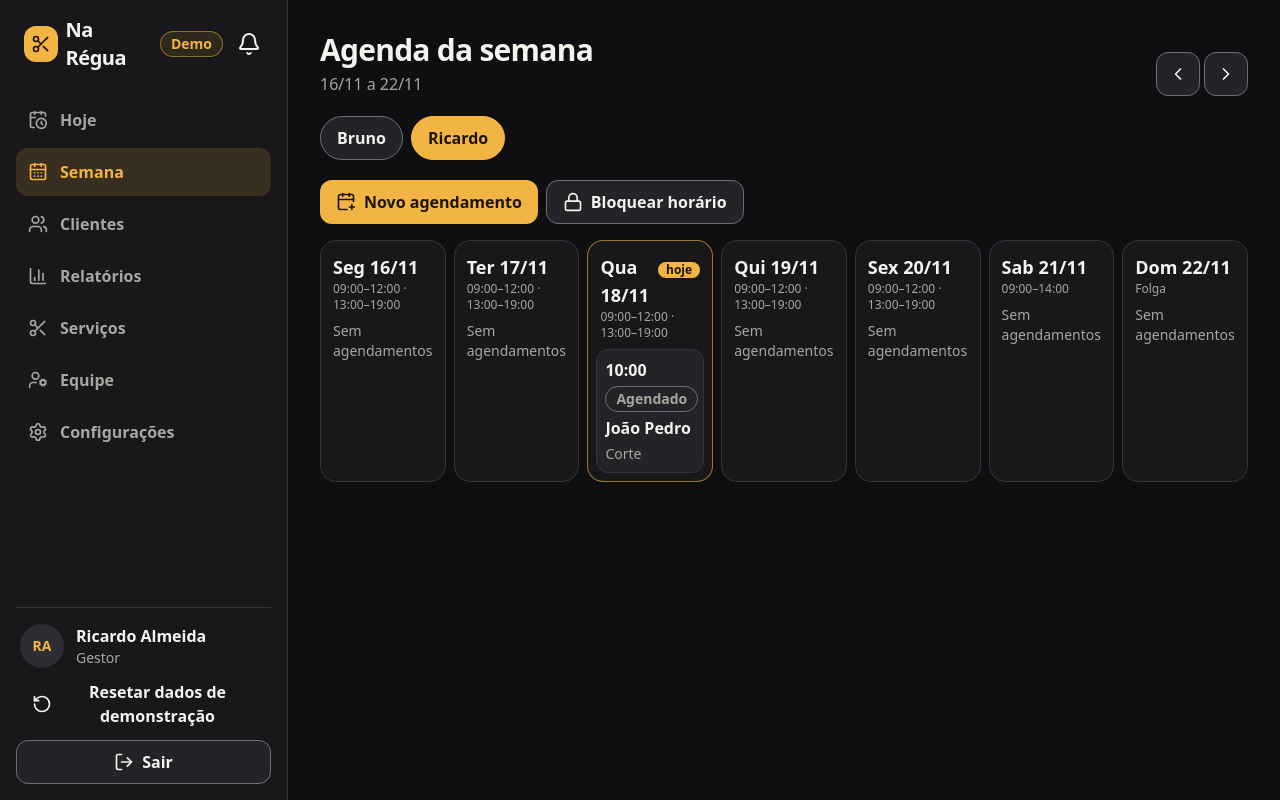
Test: WeekPage › switches between professionals
Click the button "Bruno" at {"x": 362, "y": 138}, box left=320, top=116, right=403, bottom=160
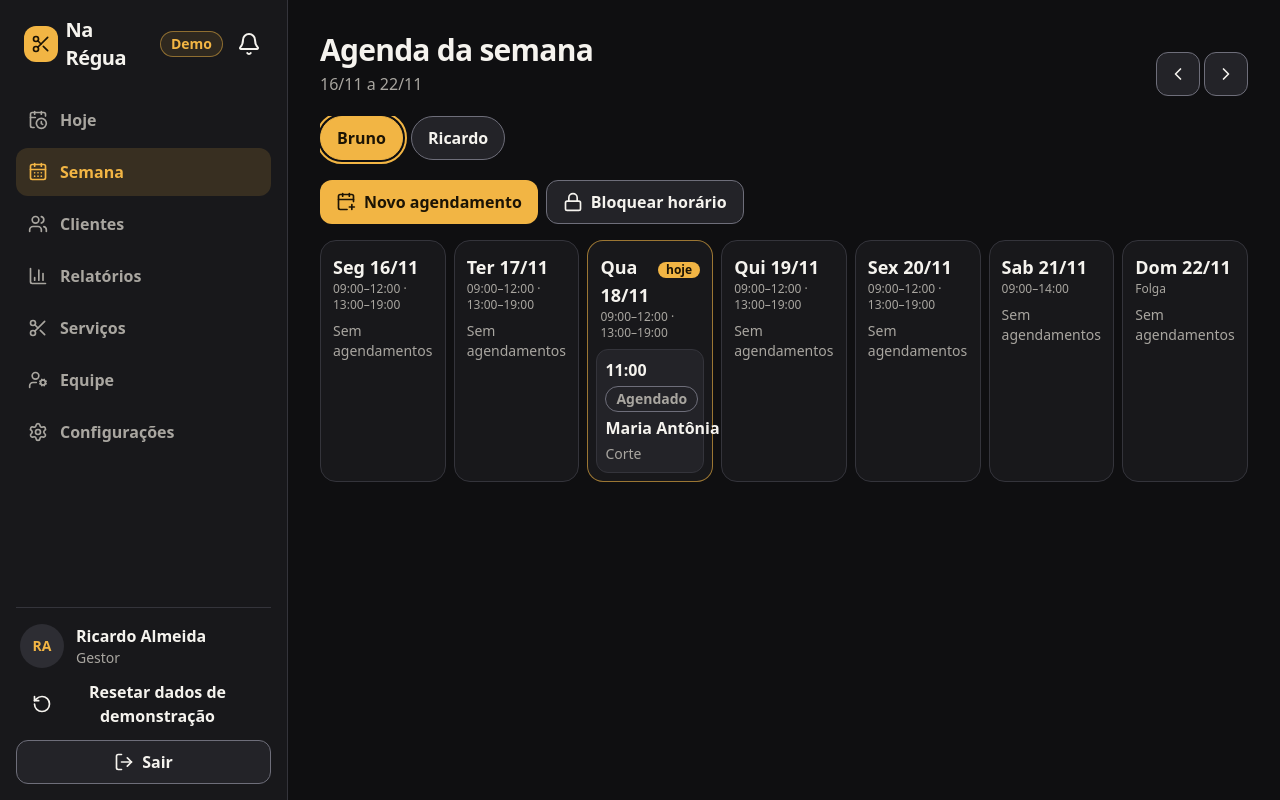
Check: the button "11:00 Agendado Maria Antônia Corte" is shown, box left=596, top=349, right=704, bottom=473
Check: the button "João Pedro" is gone
